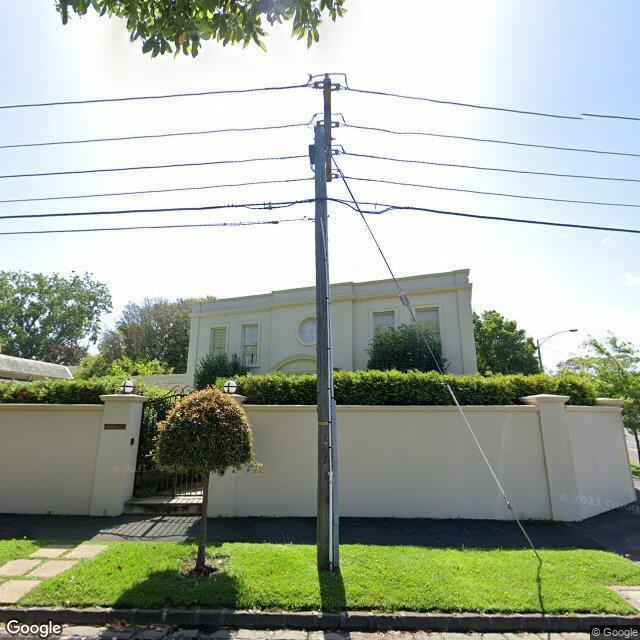crossarm: (324, 78, 331, 182)
timber-pole: (314, 124, 336, 571)
